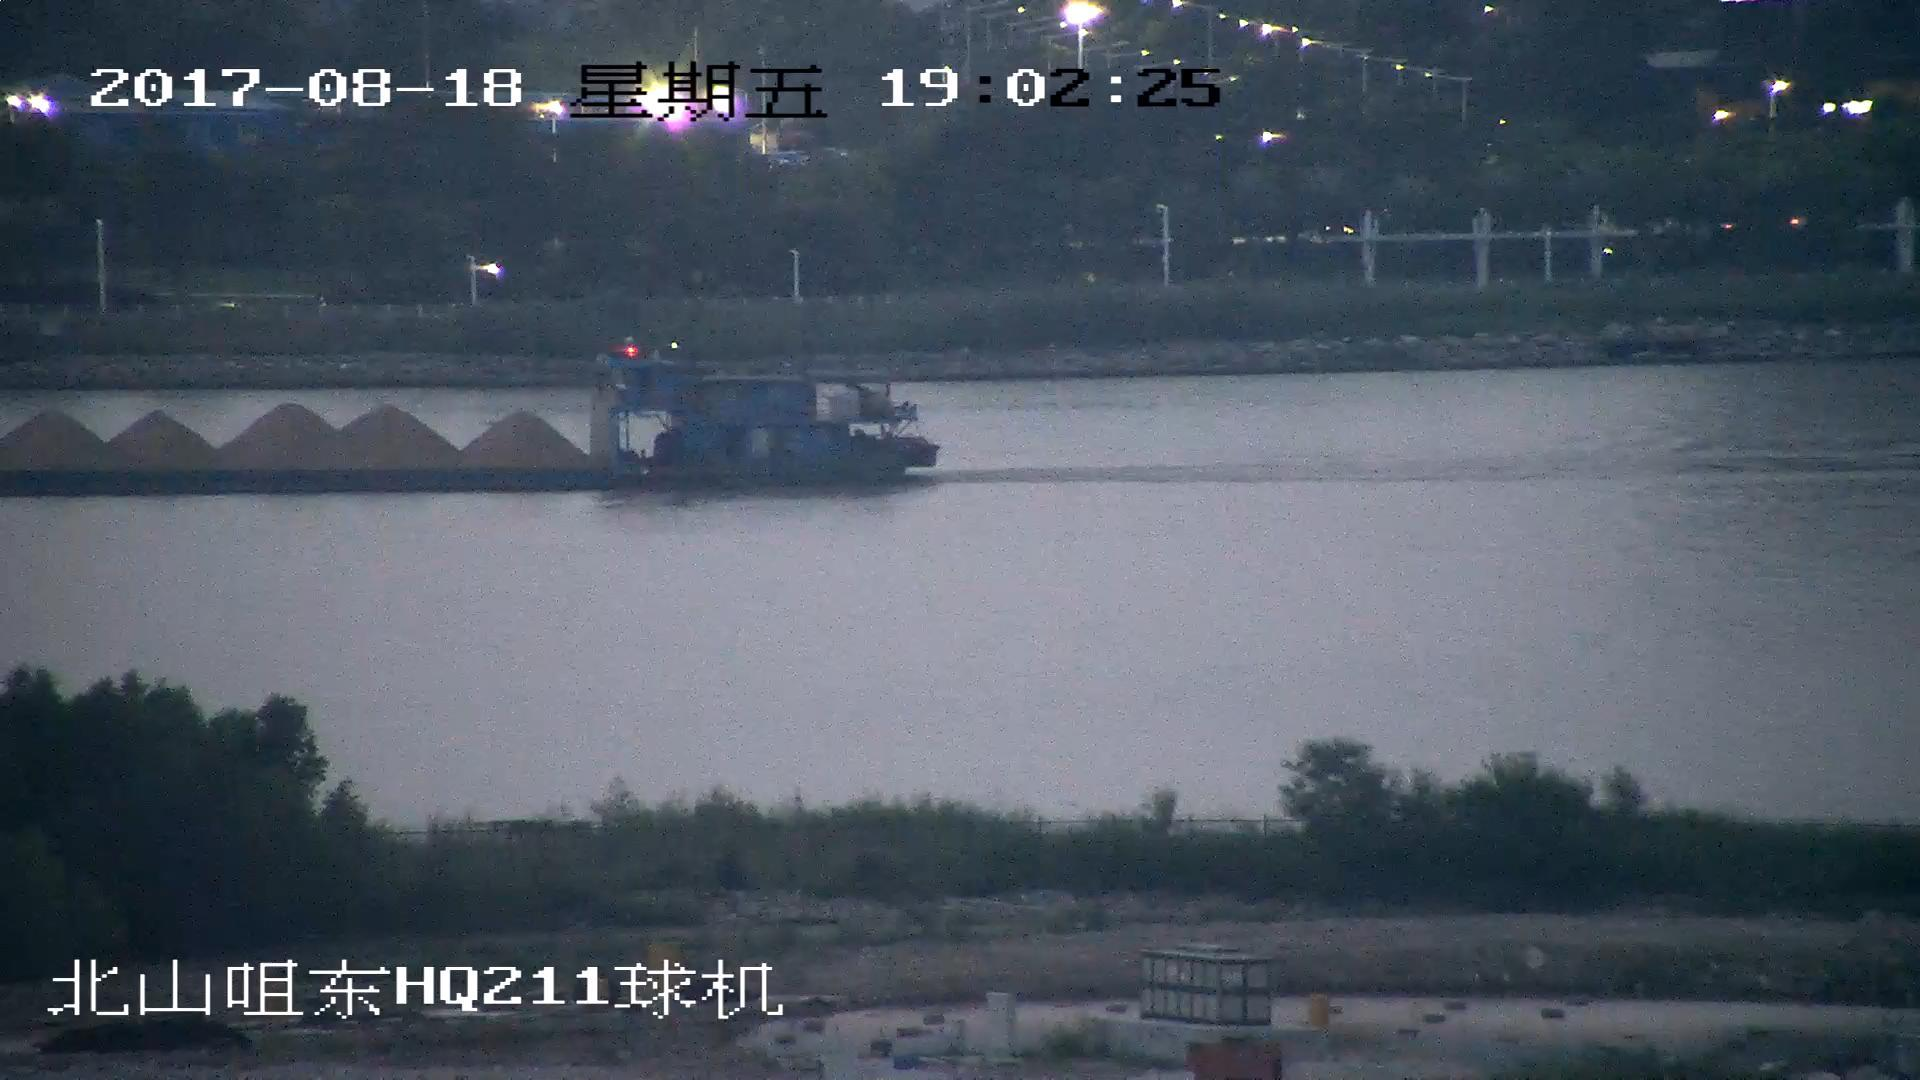Ship: (3, 338, 949, 495)
